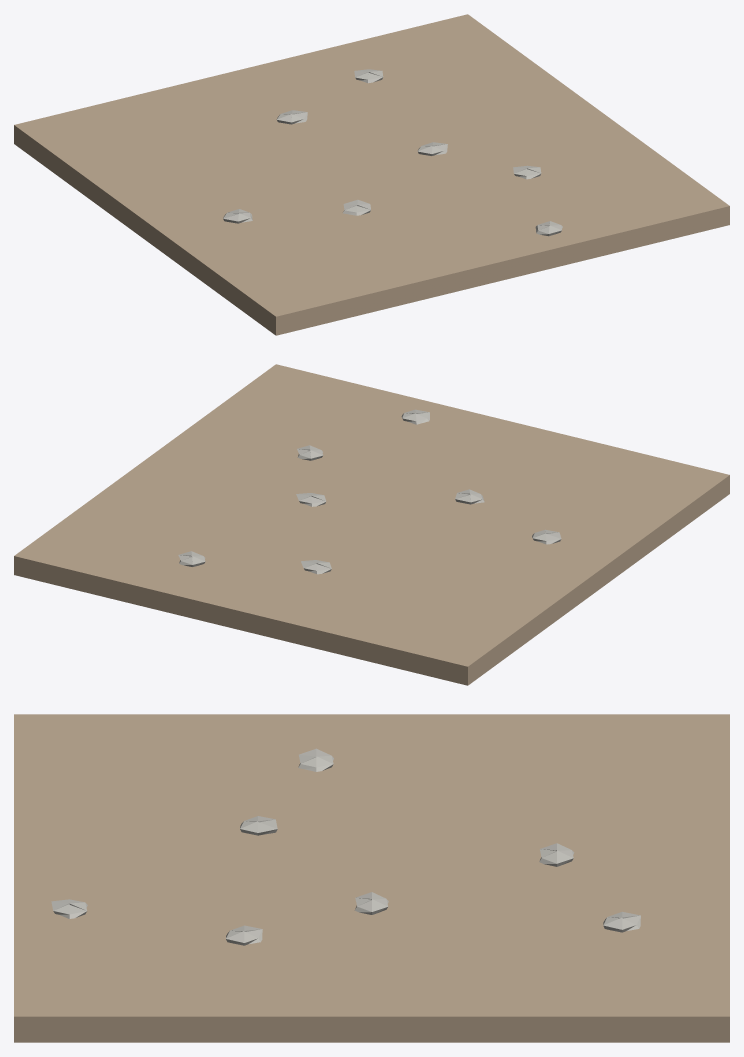
The model's file is korean-hanok-village-and-street-courtyard-ground-modul-6ce611a9__38051.glb.
3 views of the same model, one above another, from view 1: azimuth 30°, elevation 25°; view 2: azimuth 150°, elevation 25°; view 3: azimuth 270°, elevation 25° (orthographic). The views are drawn at different scales.
Parts seen in each view (by area): view 1: courtyard-ground-module; view 2: courtyard-ground-module; view 3: courtyard-ground-module.
Boxes of the visible parts, <box> form: courtyard-ground-module: <box>14,14,729,335</box>; courtyard-ground-module: <box>14,364,729,685</box>; courtyard-ground-module: <box>14,714,729,1042</box>.
Size of the model in its own units: 3 by 0.1524 by 3.
